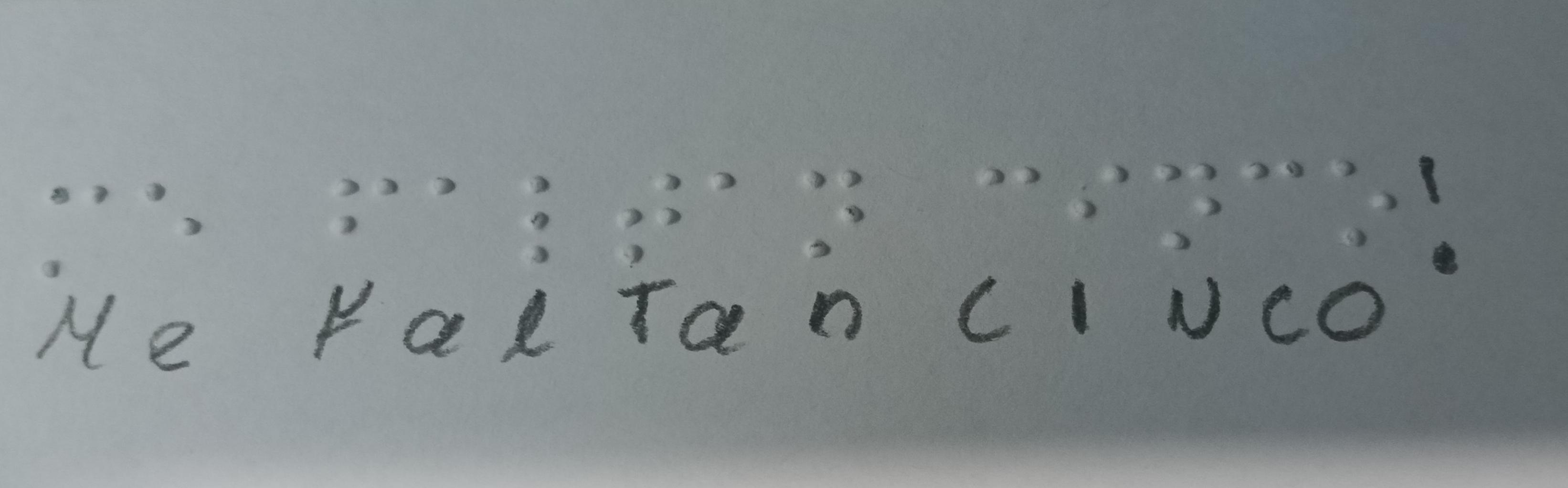a: (403, 132, 498, 280), (692, 125, 759, 277)
c: (969, 127, 1050, 264), (1241, 134, 1316, 272)
e: (127, 156, 239, 293)
f: (310, 146, 417, 274)
i: (1065, 127, 1133, 272)
l: (511, 127, 585, 279)
m: (29, 163, 126, 295)
n: (781, 132, 880, 277), (1144, 130, 1231, 271)
o: (1327, 134, 1405, 277)
t: (602, 125, 697, 276)
